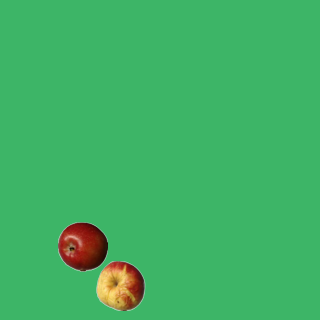Apple Braeburn: (57, 221, 107, 271)
Apple Red Yellow 1: (95, 260, 145, 310)
